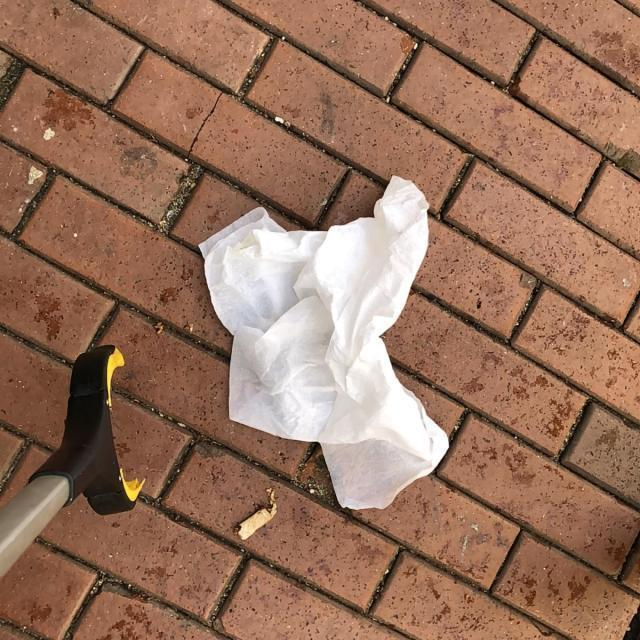Paper: (194, 174, 452, 513)
